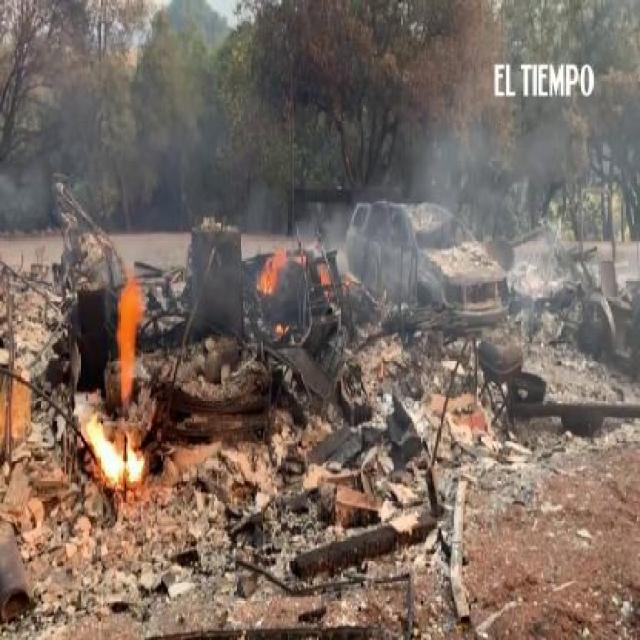Fire: (88, 414, 147, 486), (114, 274, 140, 398), (258, 244, 284, 292), (318, 260, 330, 291)
